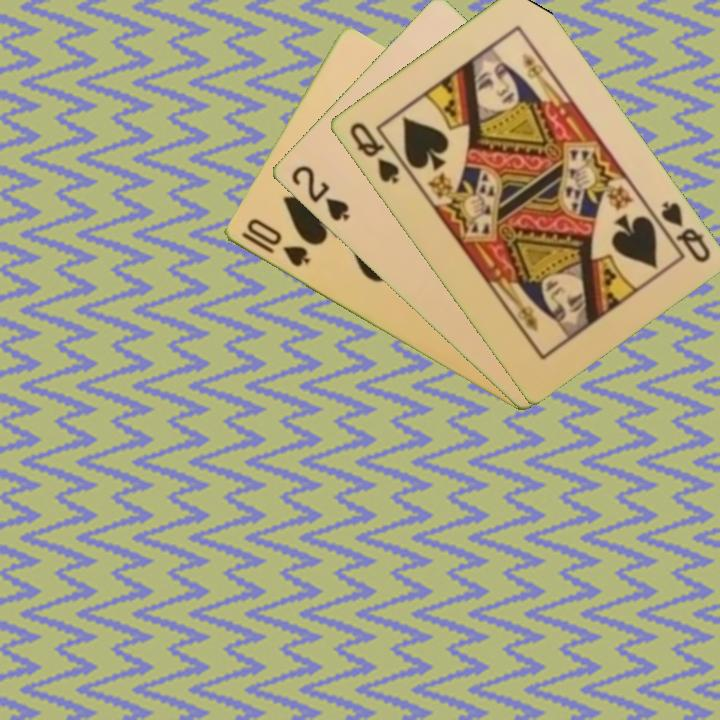10s: (236, 215, 313, 270)
2s: (287, 161, 353, 225)
Qs: (647, 197, 713, 266), (345, 118, 402, 187)
